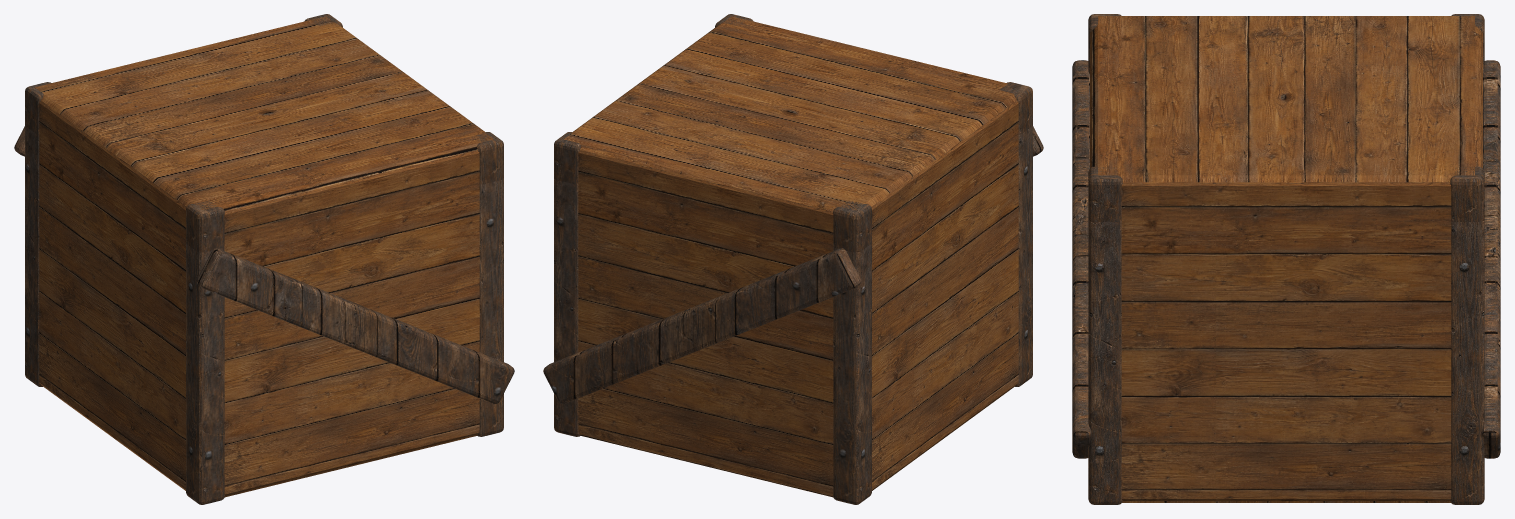
The model's file is crate-v01.glb.
3 renders of one model, left to right at view 1: azimuth 30°, elevation 25°; view 2: azimuth 150°, elevation 25°; view 3: azimuth 270°, elevation 25°, orthographic. The views are drawn at different scales.
Visible parts, largest first — view 1: crate; view 2: crate; view 3: crate.
Part boxes in pixels (<box>): crate: <box>14,14,514,504</box>; crate: <box>543,14,1043,504</box>; crate: <box>1072,14,1500,504</box>.
Bounding box in the file's own units: 1.03 × 0.92 × 1.09.
Materials: 2 (2 with a texture image).
